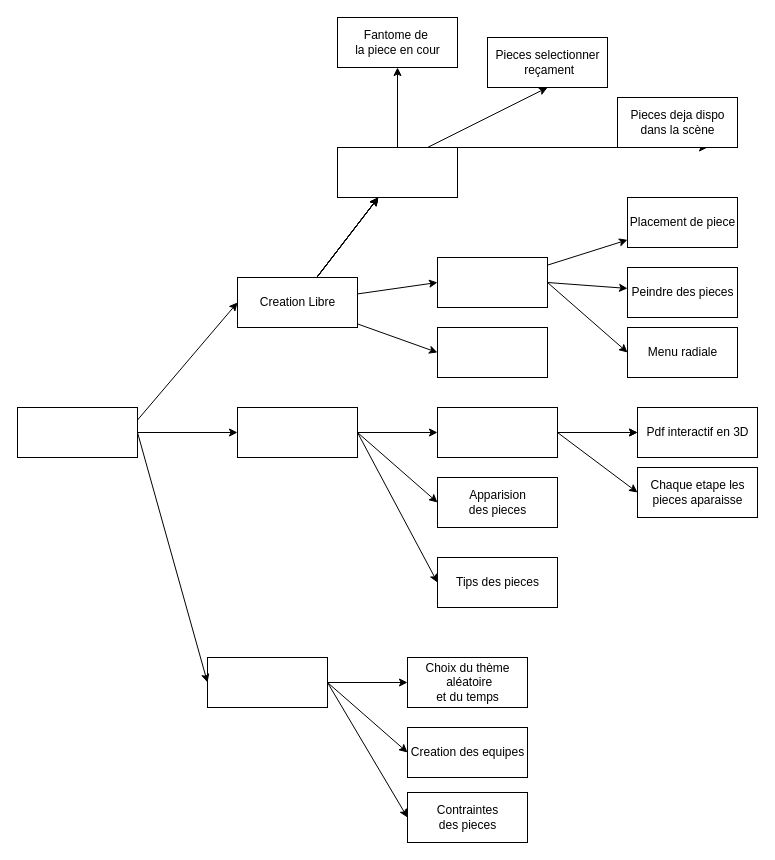
The diagram is 775 pixels wide and 860 high, and some of its shapes have lost their labels. Each missing label, with the box of its shape:
Construction Guidée: (236, 406, 358, 458)
Menu de notices: (436, 406, 558, 458)
Multijoueur (voir concours minecraft): (206, 656, 328, 708)
Ominitrix sur l'avant bras: (436, 256, 548, 308)
Partage de la salle Pour creer ensemble: (436, 326, 548, 378)
Salle de selection: (16, 406, 138, 458)
Zone de creation: (336, 146, 458, 198)
